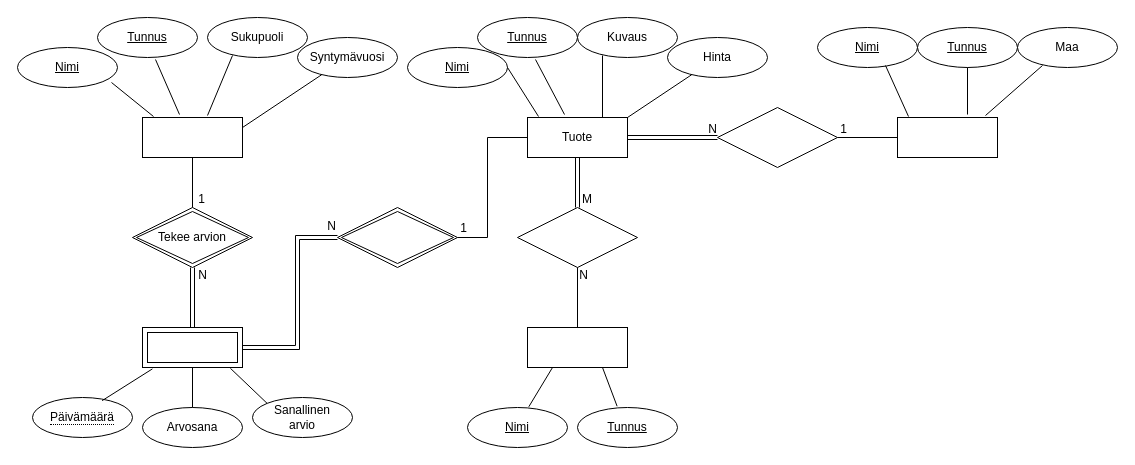
The diagram is 1135 pixels wide and 465 high, and some of its shapes have lost their labels. Each missing label, with the centre of its shape:
"Arvio" belongs at (192,347).
"Arvio tuotteen" belongs at (397,237).
"Kategoria" belongs at (577,347).
"Kuuluu" belongs at (577,237).
"Käyttäjä" belongs at (192,137).
"Omistaa" belongs at (777,137).
"Tuotemerkki" belongs at (947,137).
